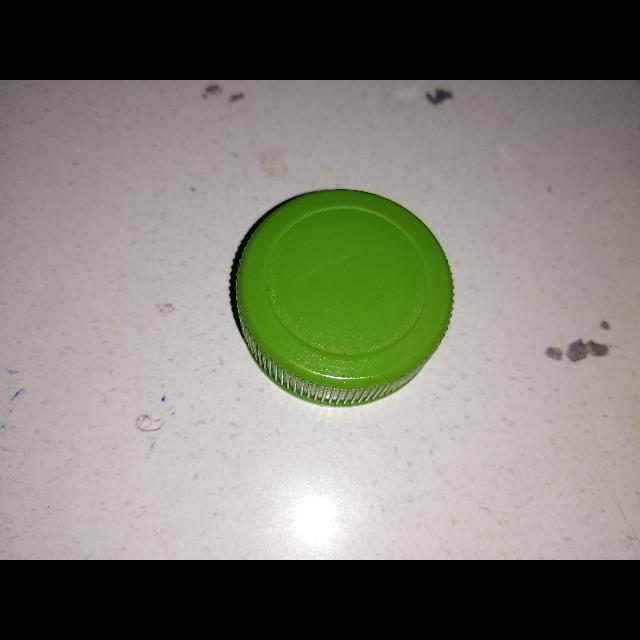plastic_bottle_cap: (228, 185, 456, 409)
